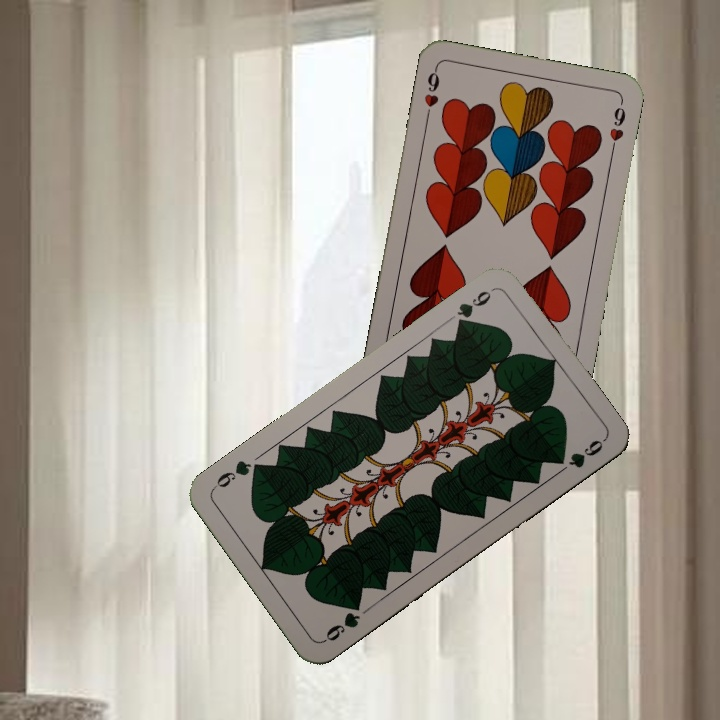G9: (319, 597, 364, 645), (452, 284, 497, 331)
H9: (420, 64, 442, 123)
